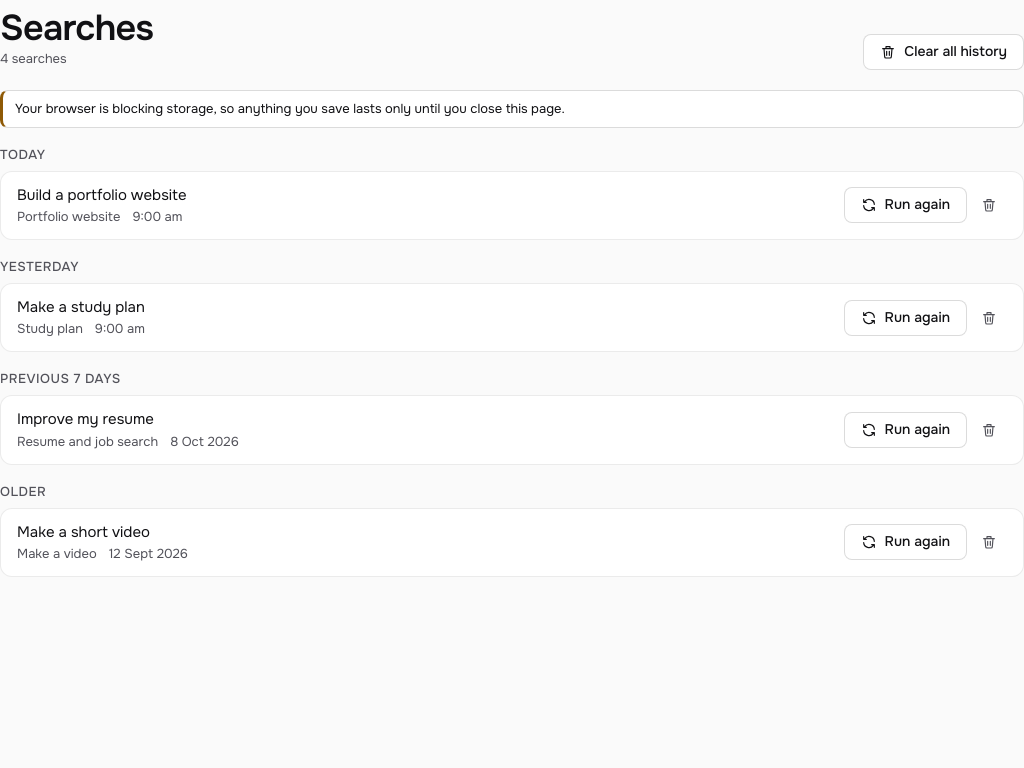
Test case: Searches page › clears all history only after confirmation
This screenshot has width=1024, height=768.
Click the button "Clear all history" at (944,52), box top-left (863, 34), bottom-right (1023, 70)
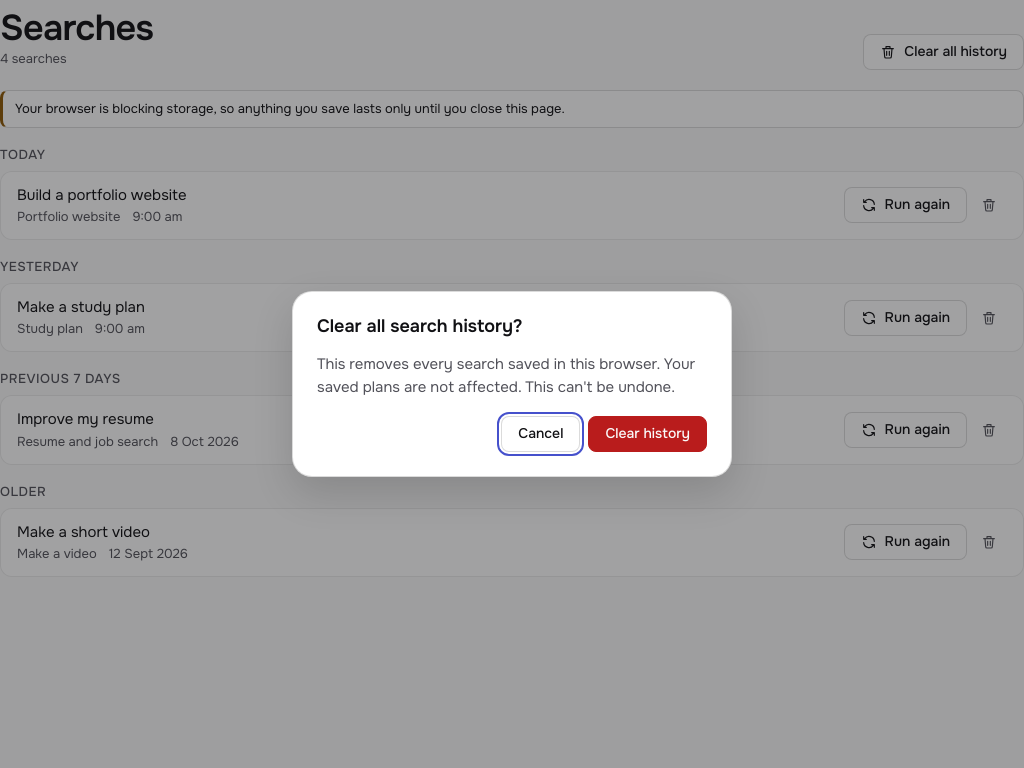
Click the button "Cancel" at (541,434), box top-left (501, 416), bottom-right (580, 452)
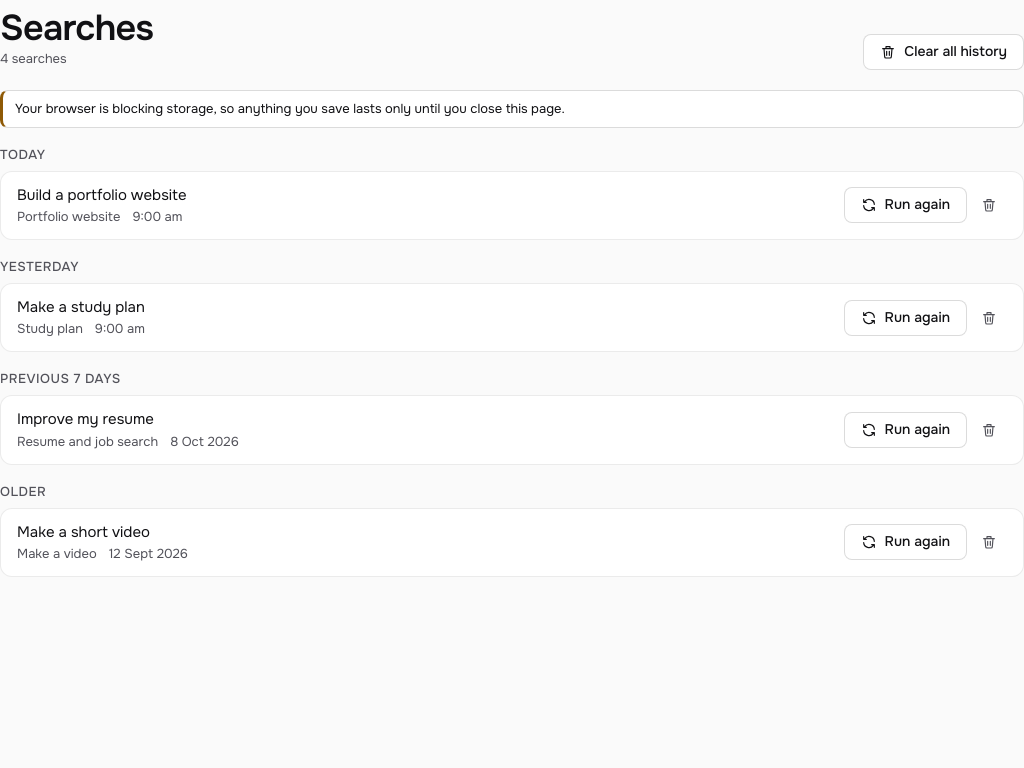
Expected: the text "Make a study plan" is shown, top-left (17, 297), bottom-right (145, 317)
Click the button "Clear all history" at (944,52), box top-left (863, 34), bottom-right (1023, 70)
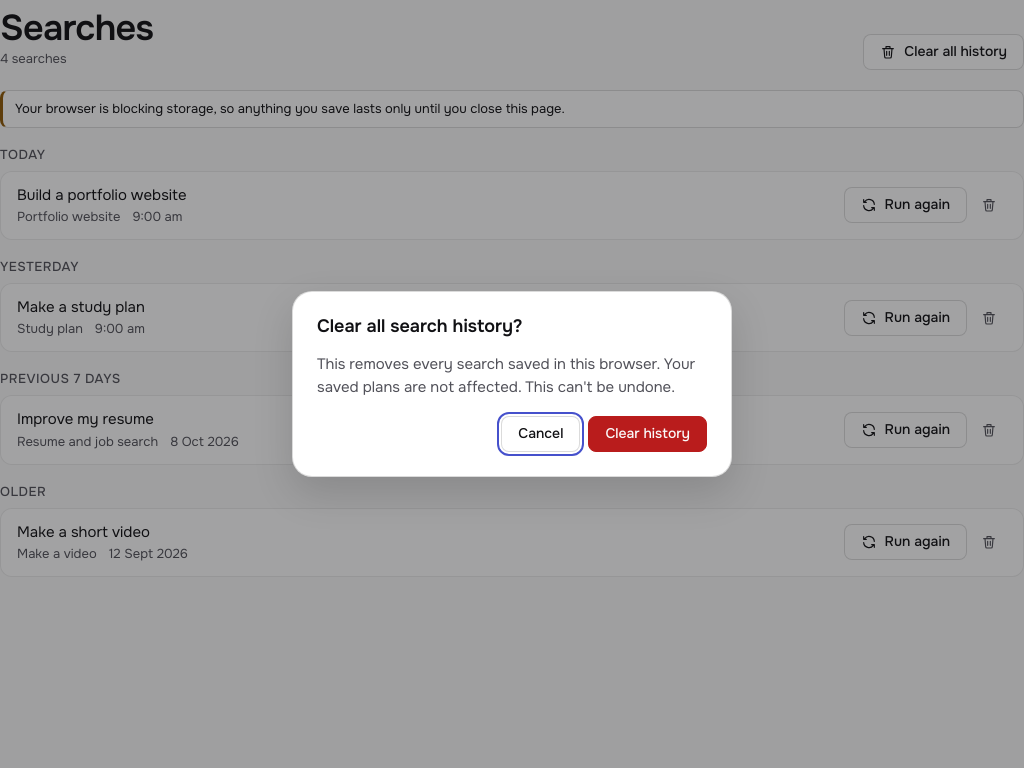
Click the button "Clear history" at (648,434), box top-left (588, 416), bottom-right (707, 452)
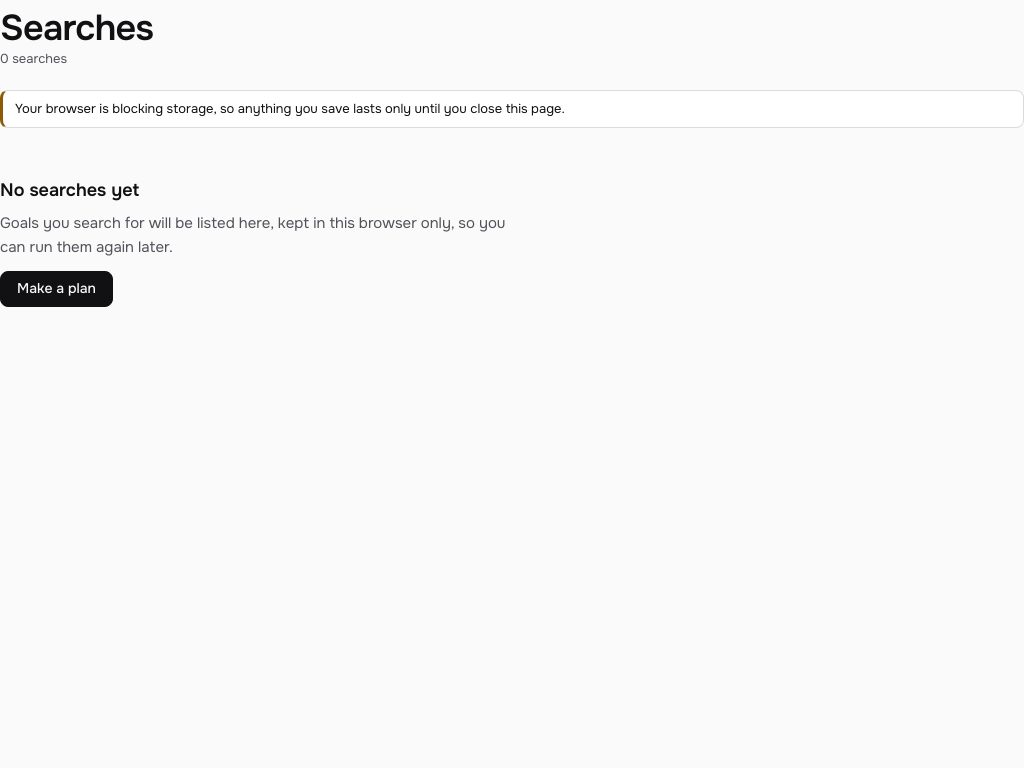
Expected: the heading "No searches yet" is shown, top-left (0, 180), bottom-right (139, 200)
